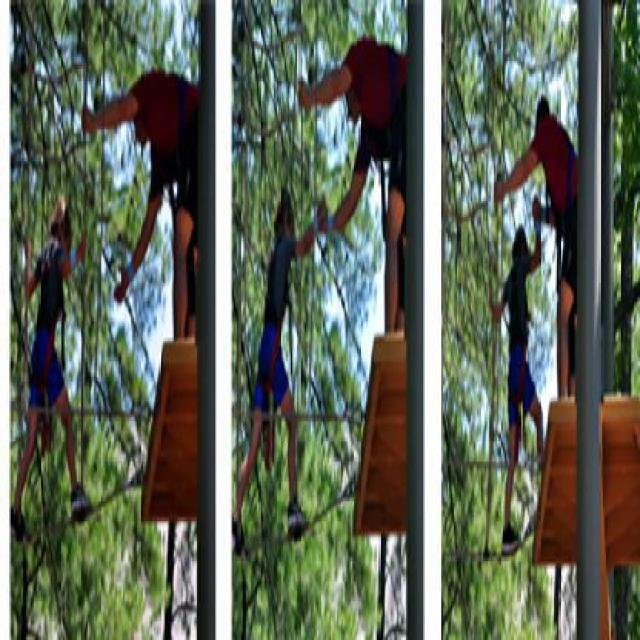Person: (294, 27, 406, 336), (82, 71, 202, 347), (232, 197, 326, 548), (11, 171, 97, 526), (491, 87, 578, 396), (487, 198, 556, 564)
